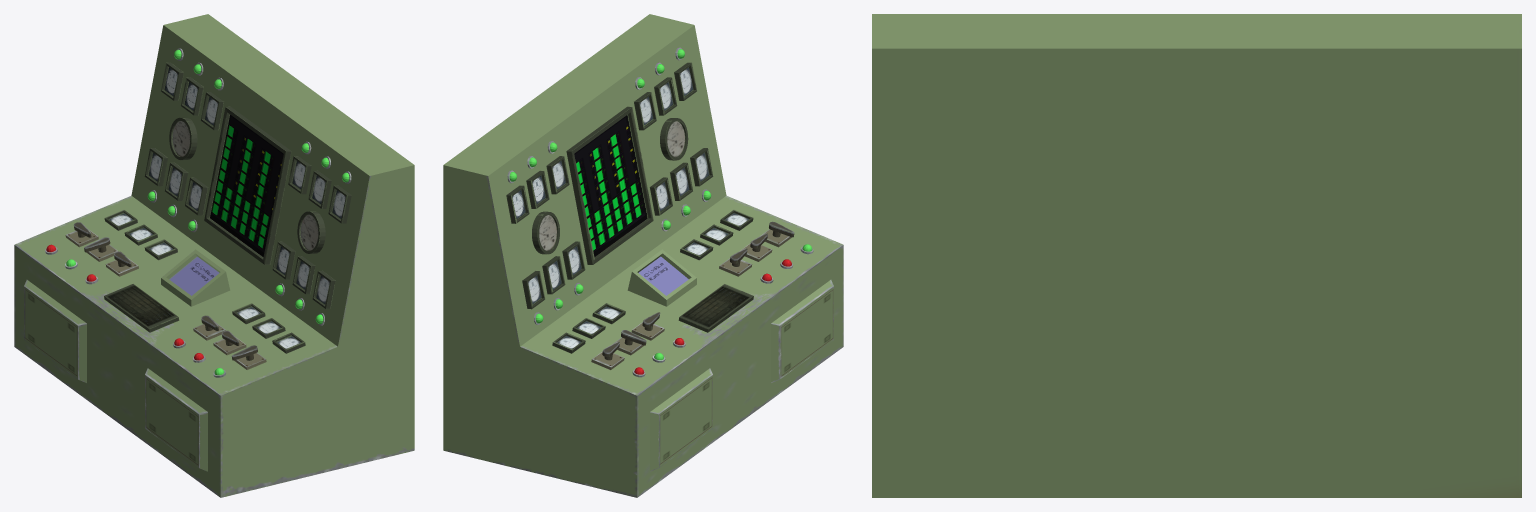
File: control_panel.glb
3 renders of one model, left to right at view 1: azimuth 30°, elevation 25°; view 2: azimuth 150°, elevation 25°; view 3: azimuth 270°, elevation 25°, orthographic. The views are drawn at different scales.
Visible parts, largest first — view 1: Cube; view 2: Cube; view 3: Cube.
Part boxes in pixels (x1=…): Cube: x1=14, y1=14, x2=414, y2=497; Cube: x1=443, y1=14, x2=843, y2=497; Cube: x1=872, y1=14, x2=1521, y2=497.
Size of the model in its own units: 0.8738 by 1.19 by 1.56.
Materials: 1 (1 with a texture image).
